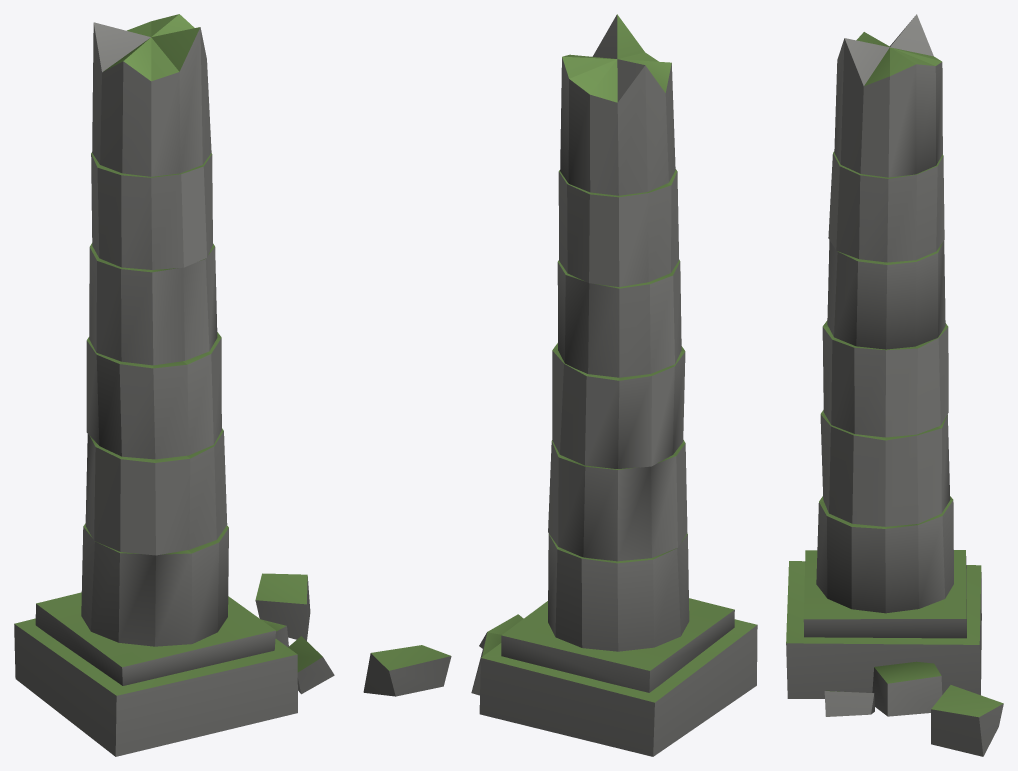
Rendered from obj_columna.glb.
3 views of the same model, side by side, from view 1: azimuth 30°, elevation 25°; view 2: azimuth 150°, elevation 25°; view 3: azimuth 270°, elevation 25° (orthographic). The views are drawn at different scales.
Visible parts, largest first — view 1: propforge-libre-columna; view 2: propforge-libre-columna; view 3: propforge-libre-columna.
Part boxes in pixels (x1,y1,x2,y2): propforge-libre-columna: [14, 14, 334, 756]; propforge-libre-columna: [363, 14, 757, 756]; propforge-libre-columna: [786, 14, 1003, 756].
Bounding box in the file's own units: 0.5748 × 1.26 × 0.3912.
